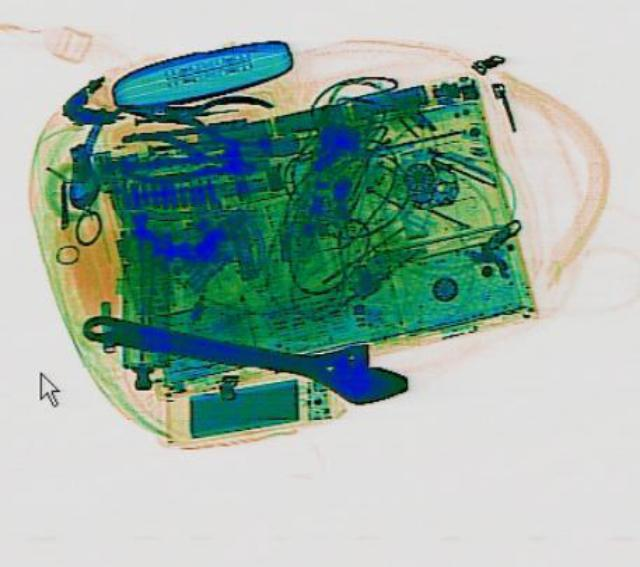Pliers: (114, 79, 274, 148), (111, 125, 257, 193)
Wrench: (72, 293, 414, 409)
